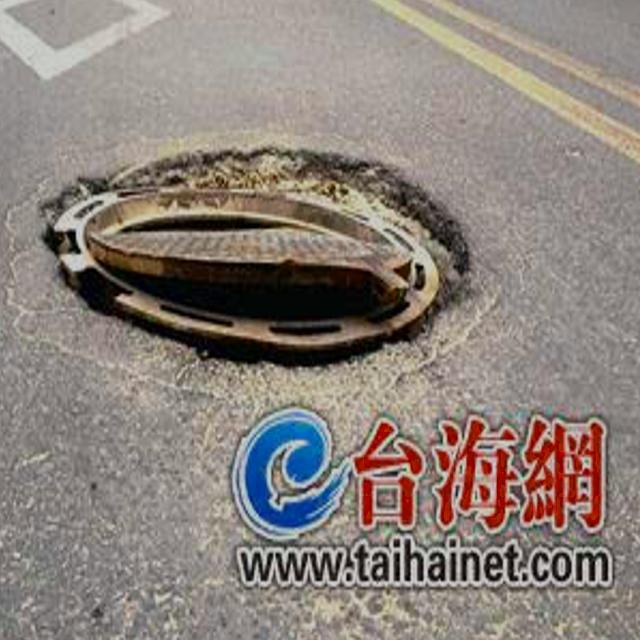circle: (0, 121, 535, 417)
